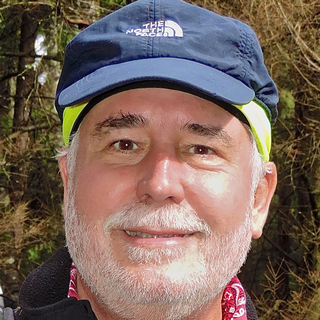eye: (102, 134, 149, 157), (180, 142, 224, 159)
